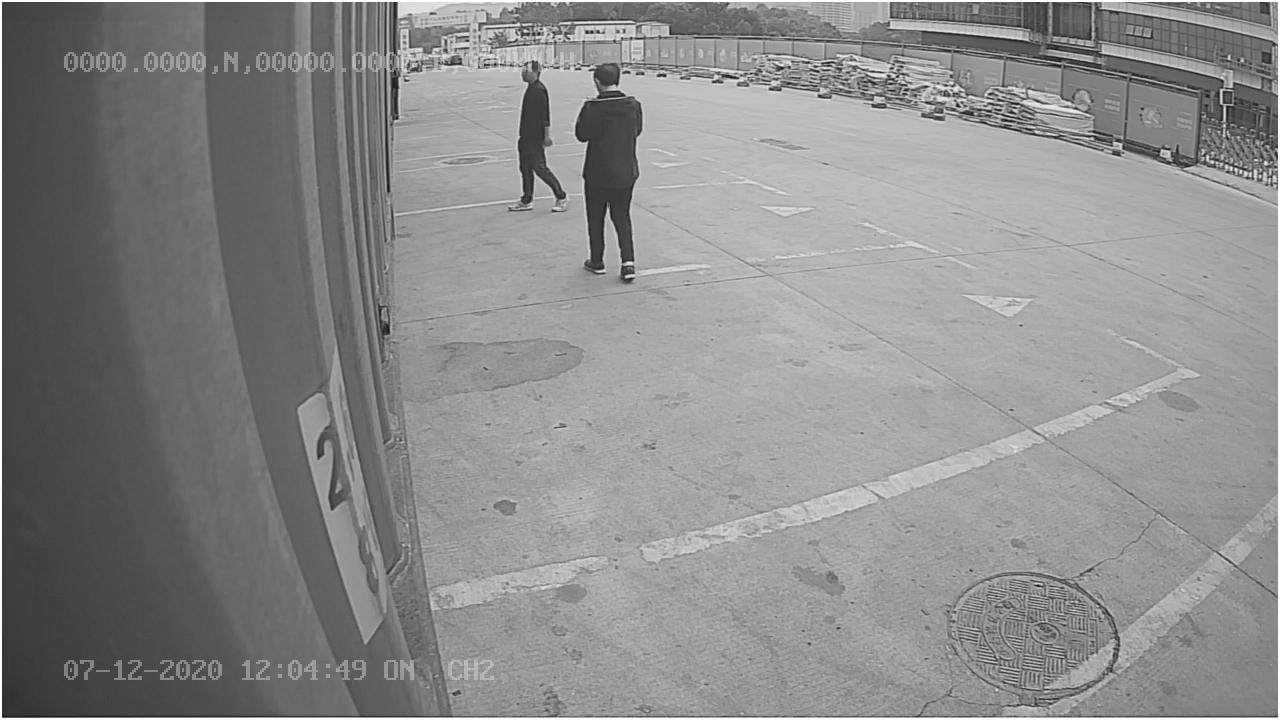person: (573, 59, 647, 282)
